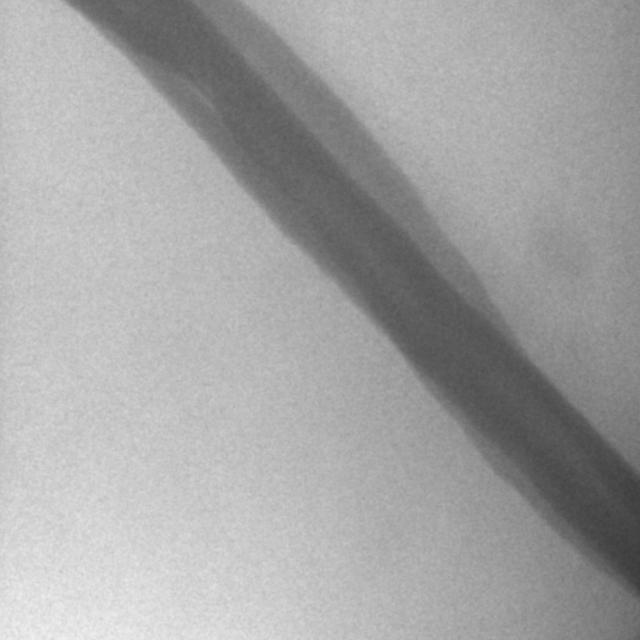unfused: (164, 65, 226, 124)
